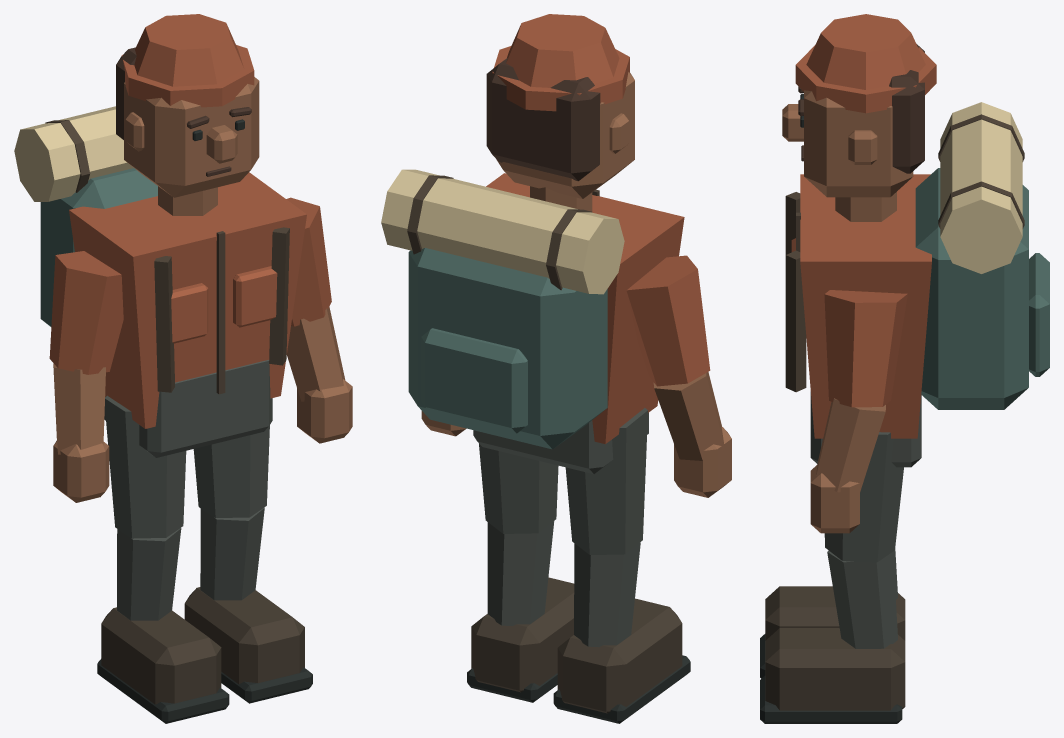
The model's file is zenscape-camper-backpacker-v01.glb.
3 renders of one model, left to right at view 1: azimuth 30°, elevation 25°; view 2: azimuth 150°, elevation 25°; view 3: azimuth 270°, elevation 25°, orthographic. The views are drawn at different scales.
Parts seen in each view (by area): view 1: Jacket.001, Head.001, Boot.002, Hips.001, Boot.003, Upper sleeve.002, Trouser thigh.002, Bedroll, Knit cap, Trouser thigh.003, Backpack, Trouser cuff.003 (+19 smaller); view 2: Backpack, Bedroll, Jacket.001, Hair back.001, Pack pocket, Boot.002, Upper sleeve.002, Trouser thigh.002, Boot.003, Knit cap, Trouser cuff.003, Trouser cuff.002 (+12 smaller); view 3: Jacket.001, Backpack, Bedroll, Boot.003, Upper sleeve.003, Head.001, Knit cap, Trouser cuff.003, Trouser thigh.003, Forearm.003, Boot.002, Hair back.001 (+12 smaller).
Boxes of the visible parts, x1,y1,x2,y2 form: Jacket.001: (69, 172, 306, 428); Head.001: (124, 77, 259, 197); Boot.002: (101, 607, 221, 704); Hips.001: (104, 360, 272, 457); Boot.003: (184, 587, 304, 684); Upper sleeve.002: (49, 251, 123, 374); Trouser thigh.002: (105, 395, 186, 538); Bedroll: (14, 106, 133, 201); Knit cap: (134, 14, 243, 86); Trouser thigh.003: (193, 425, 269, 517); Backpack: (40, 168, 157, 326); Trouser cuff.003: (200, 507, 264, 600); Backpack: (408, 248, 607, 449); Bedroll: (381, 169, 624, 294); Jacket.001: (486, 173, 684, 444); Hair back.001: (486, 58, 600, 181); Pack pocket: (421, 328, 527, 433); Boot.002: (557, 598, 682, 713); Upper sleeve.002: (626, 255, 710, 386); Trouser thigh.002: (565, 408, 647, 554); Boot.003: (471, 577, 574, 692); Knit cap: (506, 14, 619, 87); Trouser cuff.003: (487, 521, 554, 625); Trouser cuff.002: (574, 542, 640, 647); Jacket.001: (800, 174, 931, 438); Backpack: (915, 168, 1028, 409); Bedroll: (940, 102, 1022, 273); Boot.003: (765, 628, 905, 710); Upper sleeve.003: (824, 290, 907, 407); Head.001: (804, 90, 913, 197); Knit cap: (806, 14, 925, 89); Trouser cuff.003: (827, 550, 897, 648); Trouser thigh.003: (824, 432, 903, 562); Forearm.003: (816, 398, 885, 492); Boot.002: (765, 586, 905, 640); Hair back.001: (889, 44, 924, 173).
Bounding box in the file's own units: 0.8287 × 1.76 × 0.7035.
